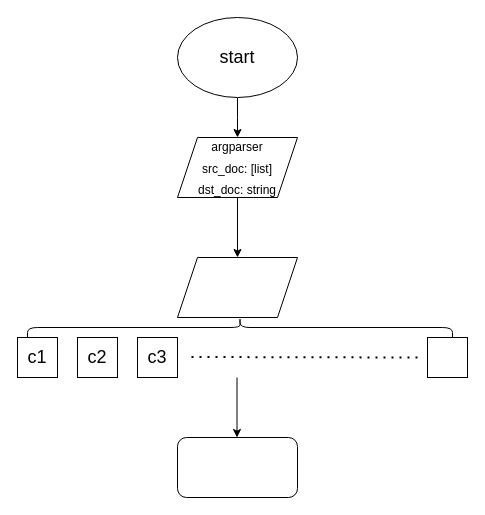
Image size: 485x515. Some labels were removed from this diagram. The centre of each missing label's shape, as x and y in pixels:
async combine: (x=237, y=287)
cN: (x=447, y=357)
output.doc: (x=237, y=467)
